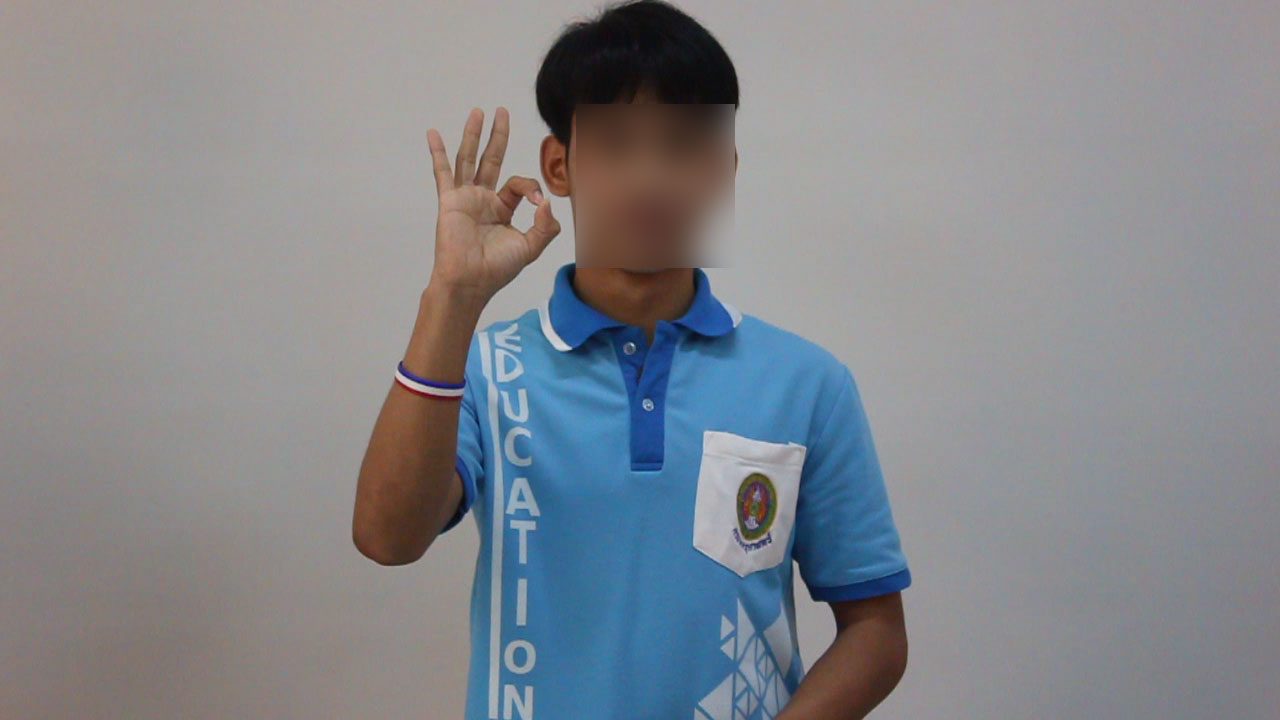for: (405, 96, 567, 317)
